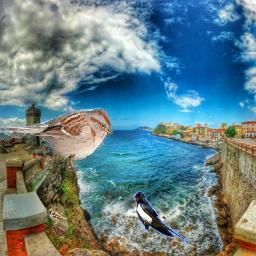Sparrow: (0, 107, 113, 171), (48, 208, 68, 224)
Swallow: (133, 191, 189, 243)
